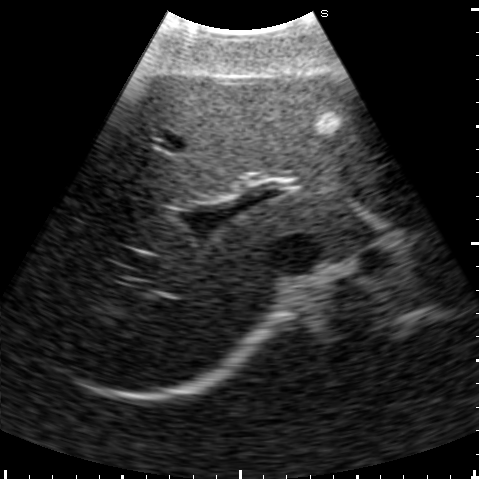IVC: (268, 234, 320, 273)
S1: (296, 195, 374, 254)
S2: (333, 165, 426, 224)
S3: (280, 75, 394, 190)
S4: (129, 72, 333, 200)
Tumor: (314, 113, 342, 134)
